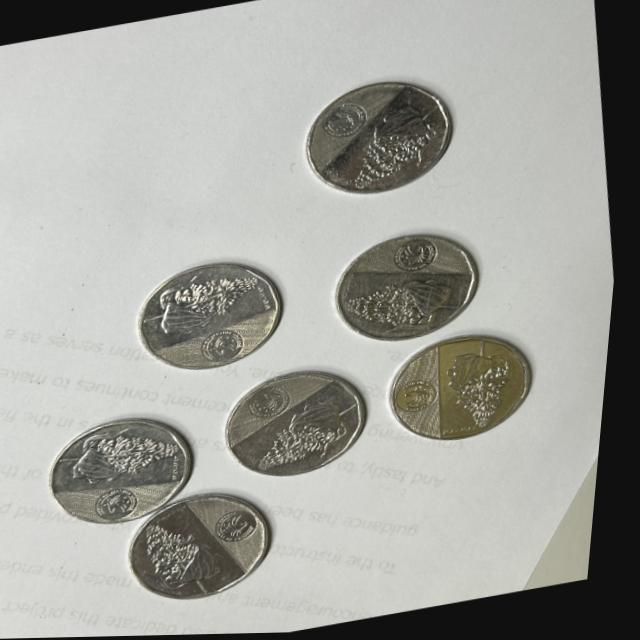10_New_Back: (62, 420, 189, 505), (345, 97, 458, 192), (441, 340, 537, 436), (346, 268, 474, 339), (135, 509, 244, 590), (140, 266, 273, 332), (248, 401, 364, 473)
